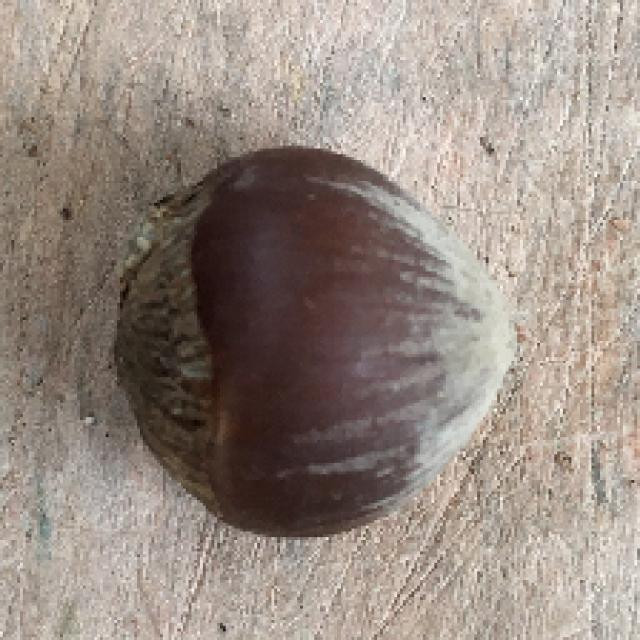damagedHazelnut: (110, 143, 517, 543)
